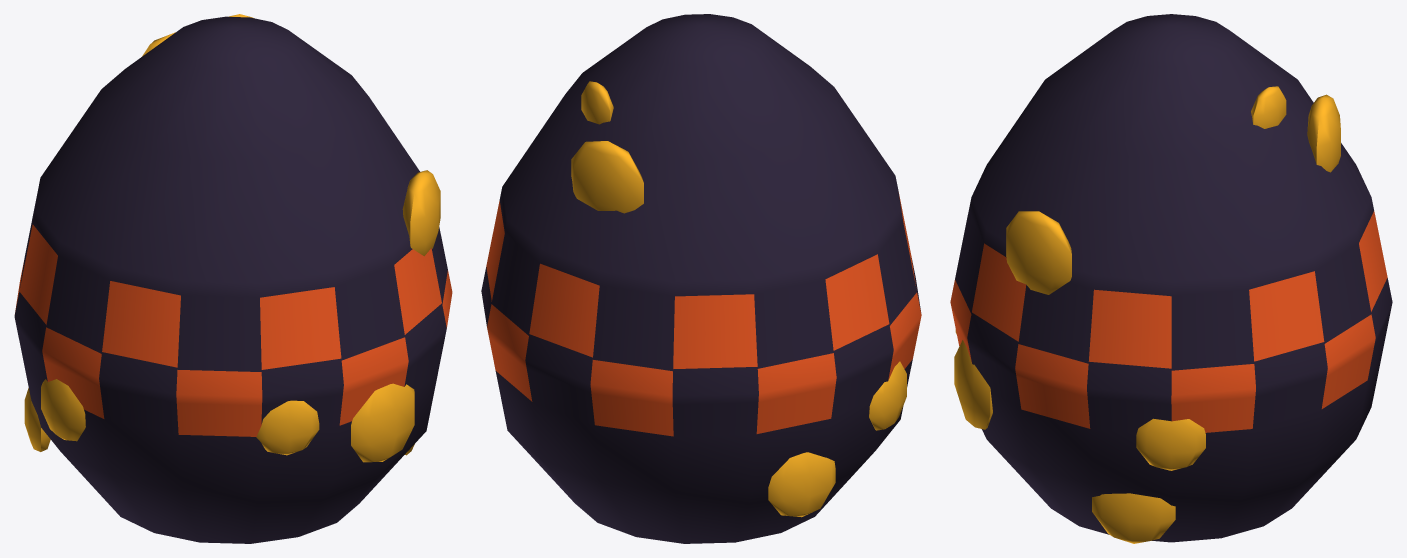
The model's file is LavaEgg.fbx.
3 views of the same model, side by side, from view 1: azimuth 30°, elevation 25°; view 2: azimuth 150°, elevation 25°; view 3: azimuth 270°, elevation 25° (orthographic).
Parts seen in each view (by area): view 1: LavaEgg; view 2: LavaEgg; view 3: LavaEgg.
Part boxes in pixels (x1,y1,x2,y2): LavaEgg: (14,14,452,543); LavaEgg: (481,14,921,543); LavaEgg: (950,14,1392,543).
Size of the model in its own units: 2.1 by 2.5 by 2.1.
Materials: 1 (1 with a texture image).
